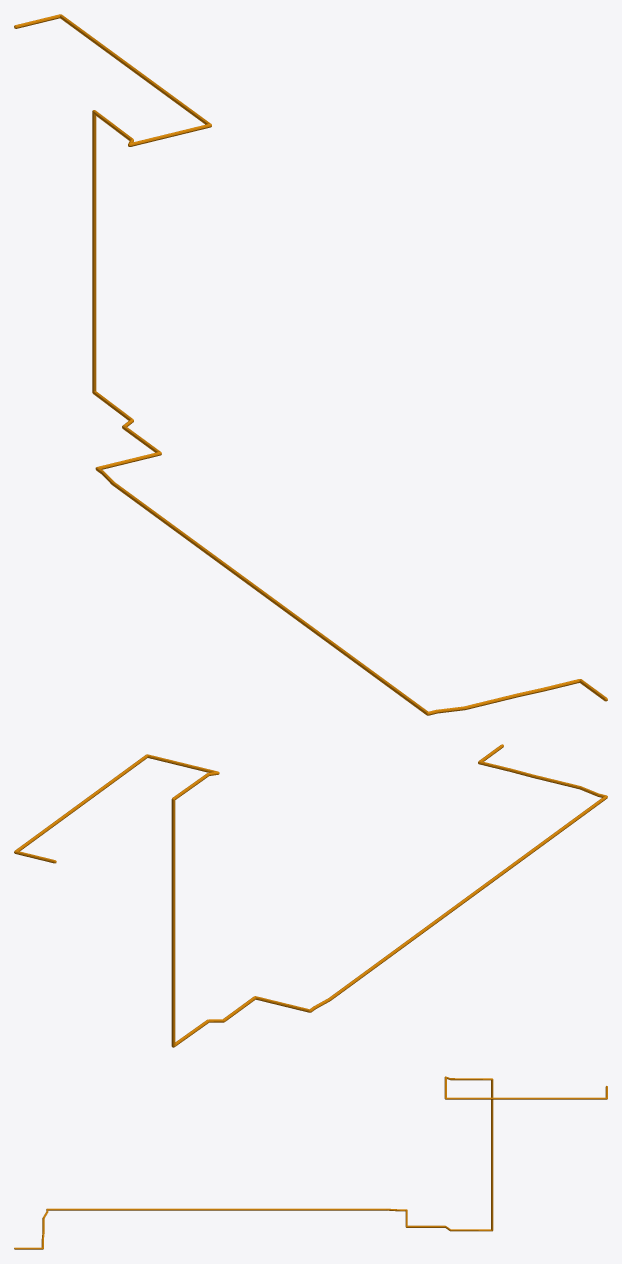
3 renders of one model, top to bottom at view 1: azimuth 30°, elevation 25°; view 2: azimuth 150°, elevation 25°; view 3: azimuth 270°, elevation 25°, orthographic. The views are drawn at different scales.
Bounding box in the file's own units: 871 × 1520 × 5347.
